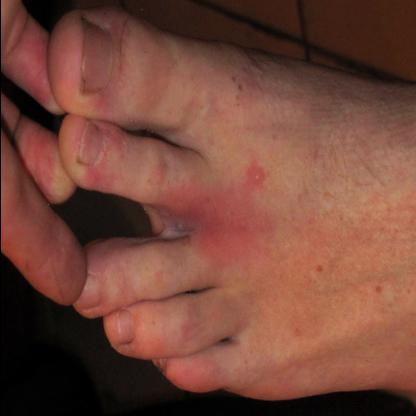Tick: (156, 189, 219, 249)
